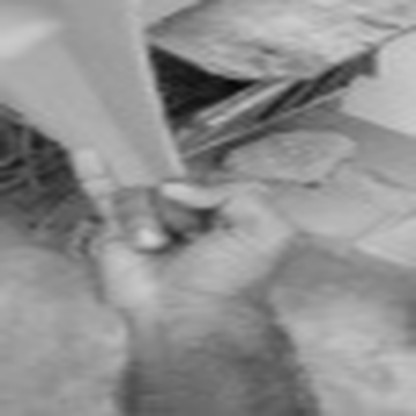i: (63, 105, 305, 303)
